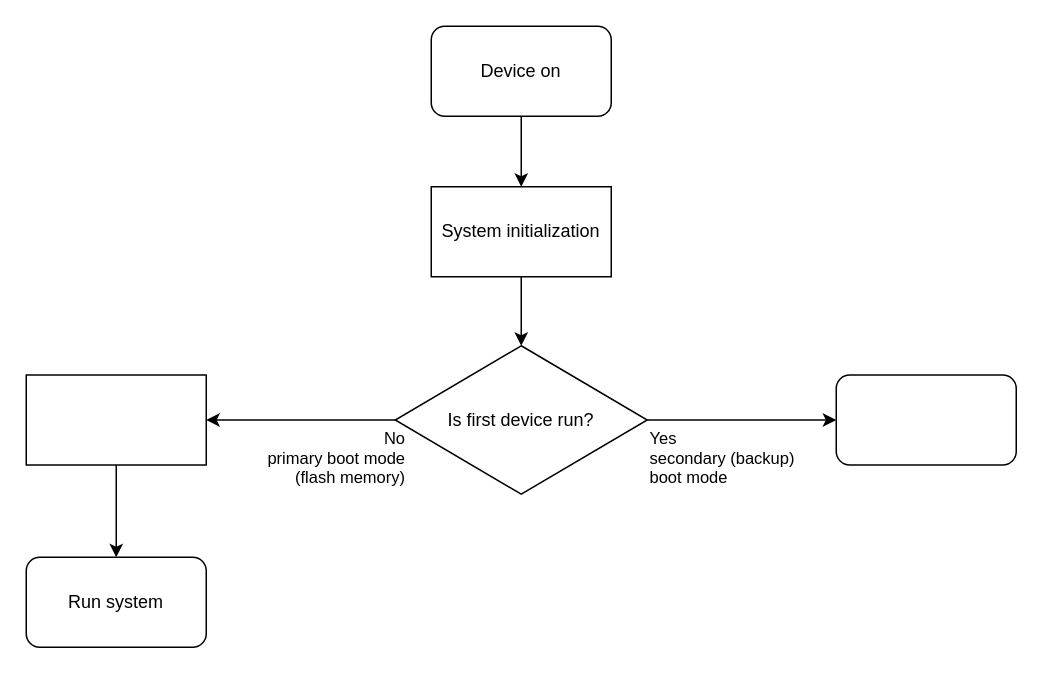
The diagram is 1043 pixels wide and 674 high, and some of its shapes have lost their labels. The centre of each missing label's shape, as x and y in pixels:
Run bootloader: the point at 115,419
Run flash writer: the point at 925,419
